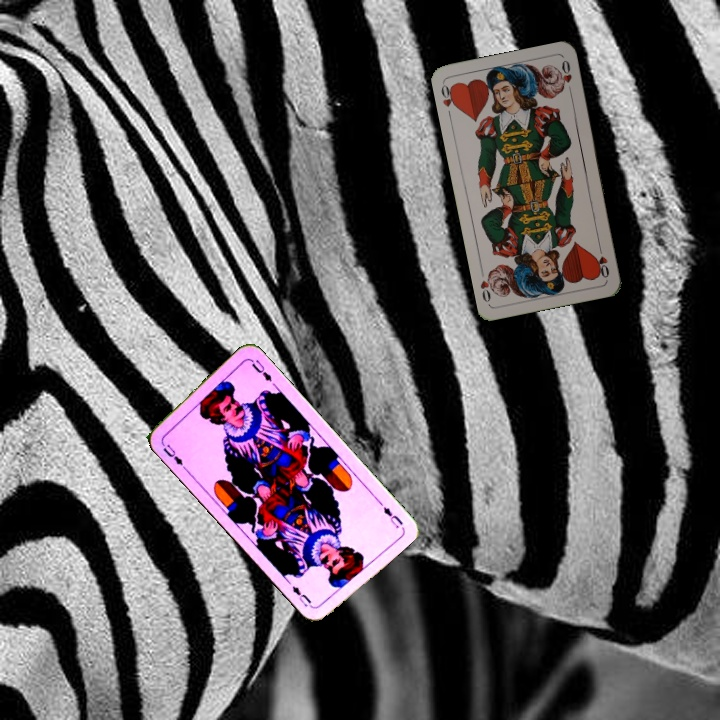EU: (159, 440, 188, 471), (379, 502, 405, 531)
HO: (437, 80, 460, 120), (594, 241, 612, 280)
